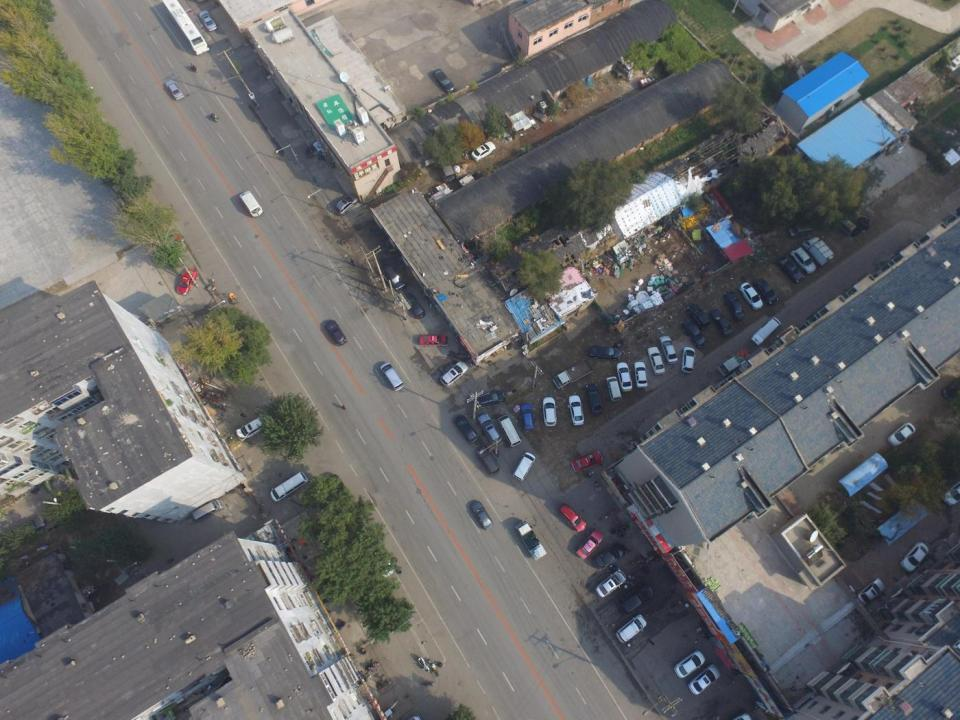bus: (157, 0, 210, 56)
car: (687, 663, 720, 696), (618, 584, 653, 615), (899, 540, 929, 574), (615, 614, 648, 644), (235, 415, 273, 441), (674, 649, 706, 679), (592, 542, 627, 569), (575, 530, 605, 560), (595, 569, 626, 598), (557, 503, 586, 532), (789, 245, 817, 275), (855, 578, 885, 606), (453, 413, 479, 444), (477, 412, 502, 444), (439, 360, 468, 387), (682, 318, 707, 349), (777, 256, 804, 284), (570, 450, 604, 472), (709, 308, 734, 337), (886, 422, 915, 447), (739, 281, 763, 311), (754, 277, 778, 306), (471, 500, 493, 531), (175, 268, 199, 296), (324, 319, 348, 346), (472, 390, 506, 409), (687, 303, 710, 330), (658, 335, 678, 365), (383, 265, 406, 291), (725, 291, 744, 322), (432, 68, 456, 92), (567, 394, 585, 426), (335, 193, 359, 217), (646, 346, 665, 376), (585, 384, 602, 416), (589, 345, 623, 361), (469, 141, 496, 161), (405, 293, 425, 319), (542, 396, 558, 428), (615, 362, 632, 392), (942, 479, 960, 506), (680, 346, 697, 374), (519, 403, 535, 431), (164, 79, 184, 101), (418, 334, 449, 348), (633, 361, 648, 389), (198, 9, 216, 32)
truck: (514, 519, 546, 562), (551, 360, 593, 390), (717, 348, 752, 378), (802, 236, 834, 267)
van: (270, 470, 310, 504), (751, 316, 781, 346), (497, 413, 522, 448), (191, 498, 224, 523), (476, 446, 502, 476), (380, 362, 405, 392), (512, 451, 536, 482), (238, 190, 262, 217), (788, 222, 815, 239), (605, 375, 622, 402)
